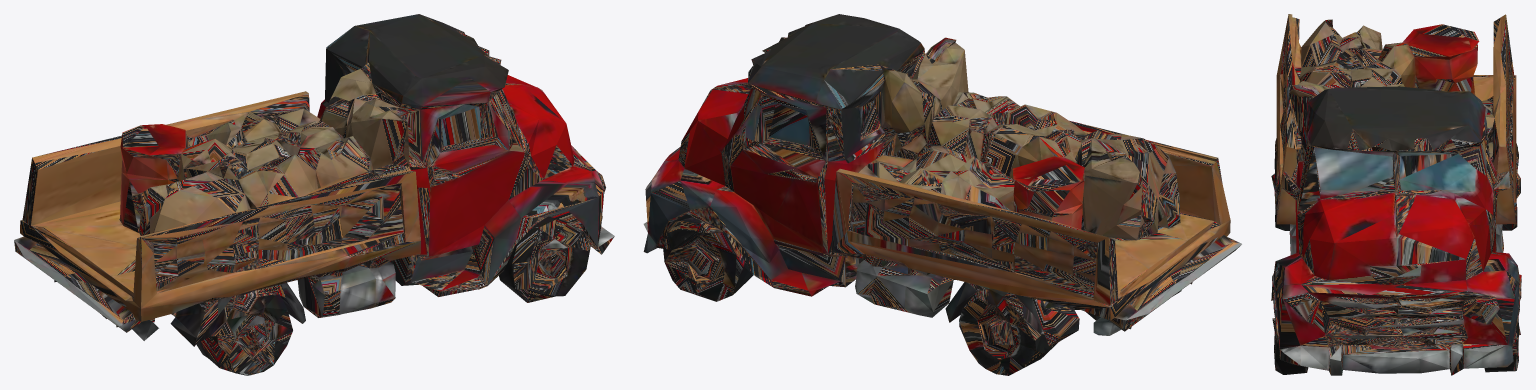
File: vehicle_truck.glb
3 renders of one model, left to right at view 1: azimuth 30°, elevation 25°; view 2: azimuth 150°, elevation 25°; view 3: azimuth 270°, elevation 25°, orthographic.
Parts seen in each view (by area): view 1: normalize; view 2: normalize; view 3: normalize.
Part boxes in pixels (x1=…): normalize: x1=14, y1=14, x2=614, y2=375; normalize: x1=643, y1=14, x2=1241, y2=375; normalize: x1=1271, y1=14, x2=1521, y2=375.
Bounding box in the file's own units: 1 × 0.4412 × 0.4299.
1 material, 1 textured.
